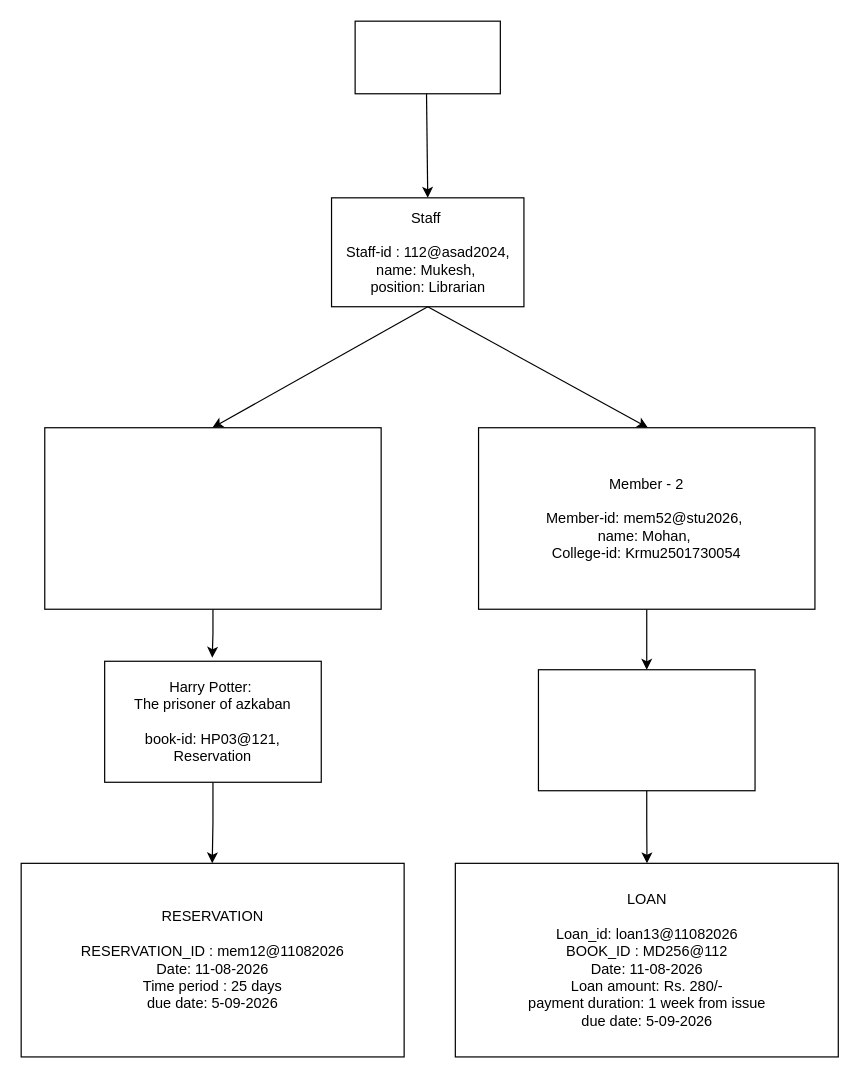
Image size: 860x1078. Some labels were removed from this diagram. The shapes that lost their labels are listed below. From the top down, each one's centre as x and y in pixels, then its label:
pixel 427 57: KRMU LIBRARY
pixel 212 518: Member - 1 Member-id: mem12@stu2026, name: Rohan, College-id: Krmu2501730053
pixel 646 730: Malgudi Days book-id: MD256@112, Loan
